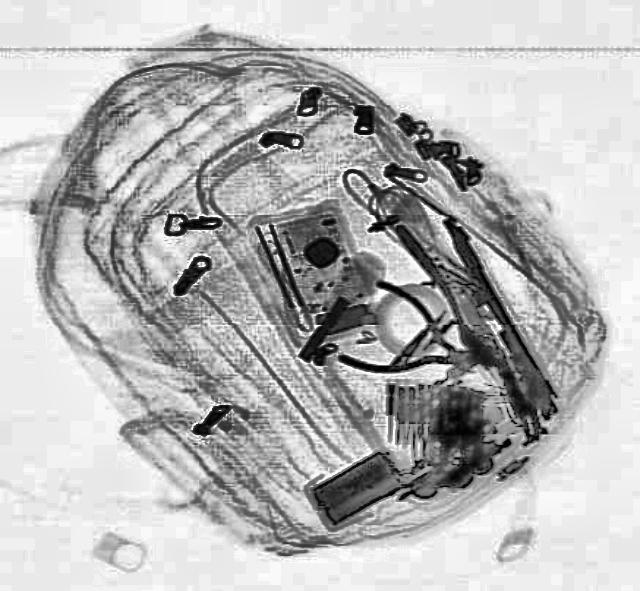Pliers: (334, 277, 496, 405)
